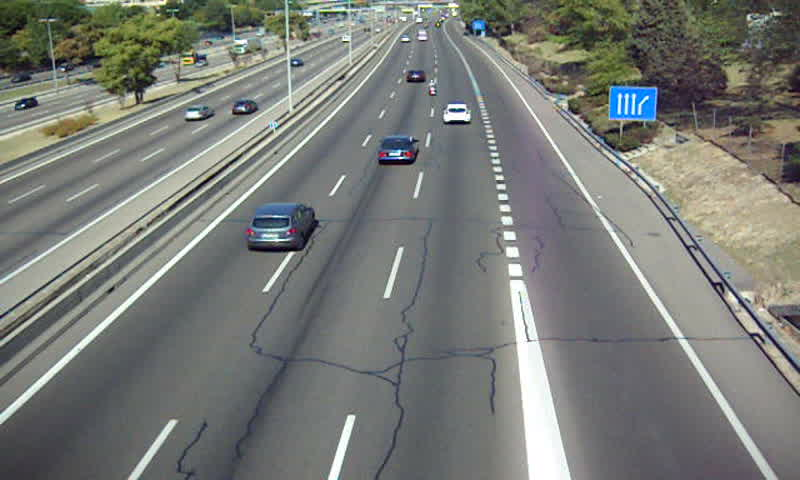car: (245, 205, 314, 250), (376, 136, 418, 164), (442, 102, 471, 124), (404, 68, 427, 84)
motorcycle: (428, 79, 439, 97)
